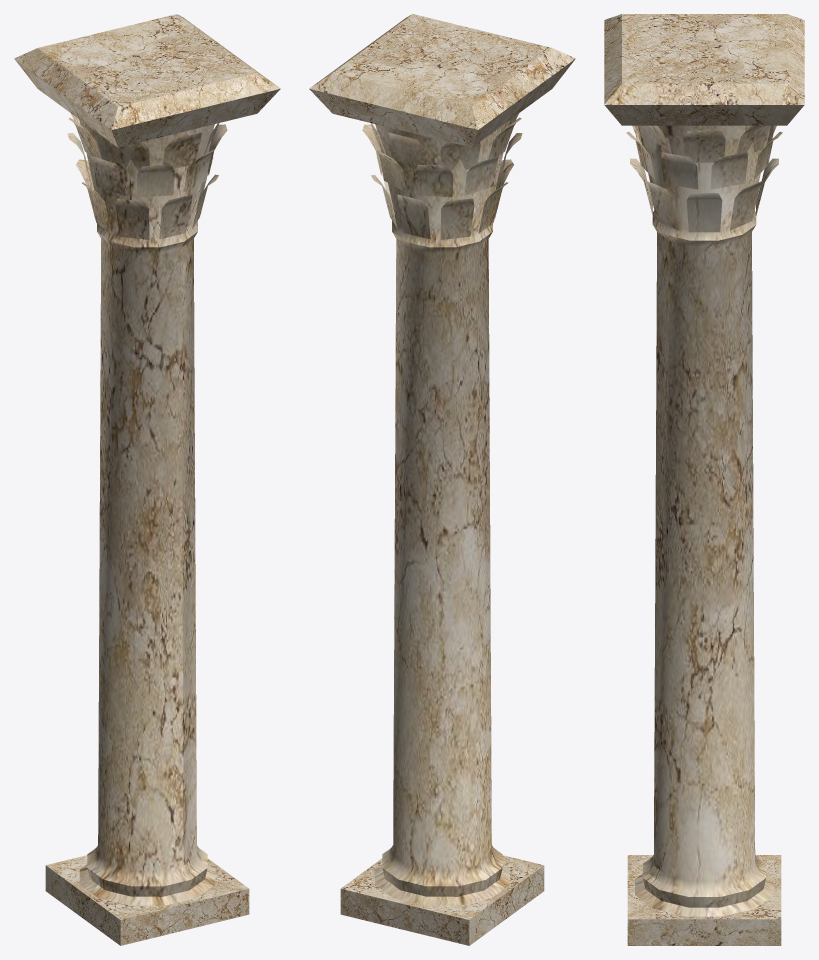
File: column.obj
The picture shows the model from 3 angles, left to right: view 1: azimuth 30°, elevation 25°; view 2: azimuth 150°, elevation 25°; view 3: azimuth 270°, elevation 25°; orthographic projection. The views are drawn at different scales.
Visible parts, largest first — view 1: column; view 2: column; view 3: column.
Boxes of the visible parts, x1,y1,x2,y2 form: column: (14, 14, 280, 945); column: (309, 14, 575, 945); column: (604, 14, 804, 945).
Size of the model in its own units: 334 by 1588 by 334.
